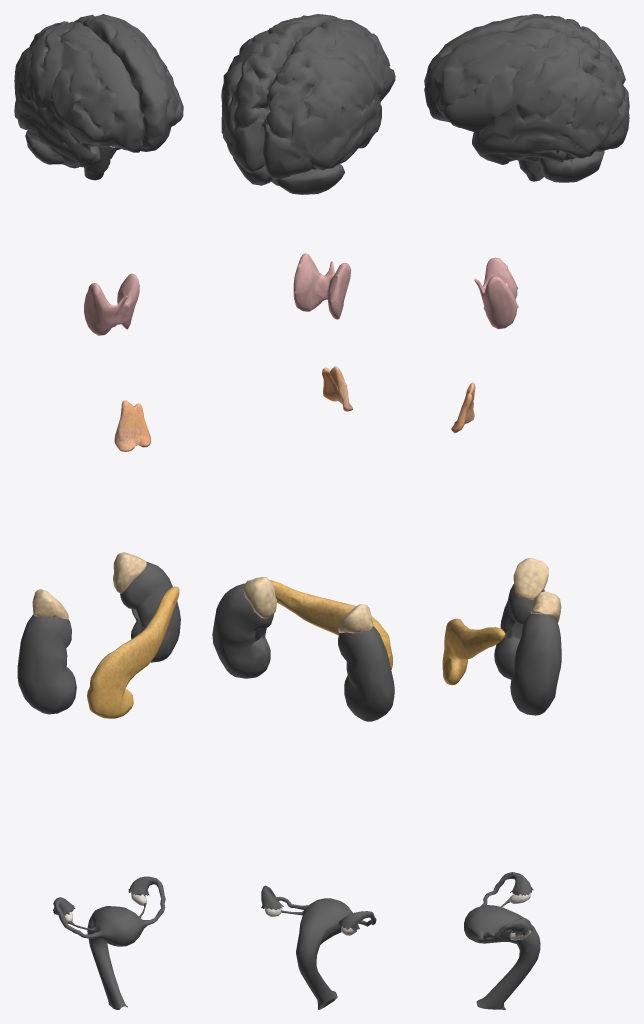
File: endocrinesystem1.glb
3 renders of one model, left to right at view 1: azimuth 30°, elevation 25°; view 2: azimuth 150°, elevation 25°; view 3: azimuth 270°, elevation 25°, orthographic. The views are drawn at different scales.
Visible parts, largest first — view 1: accessoryOrgans_2, endocrine_system_1; view 2: accessoryOrgans_2, endocrine_system_1; view 3: accessoryOrgans_2, endocrine_system_1.
Boxes of the visible parts, x1,y1,x2,y2 form: accessoryOrgans_2: (14, 14, 183, 1009); endocrine_system_1: (32, 146, 179, 923); accessoryOrgans_2: (212, 14, 395, 1009); endocrine_system_1: (243, 253, 392, 935); accessoryOrgans_2: (424, 14, 629, 1009); endocrine_system_1: (442, 257, 561, 940).
Bounding box in the file's own units: 0.1658 × 0.9372 × 0.1768.
Materials: 2 (1 with a texture image).
